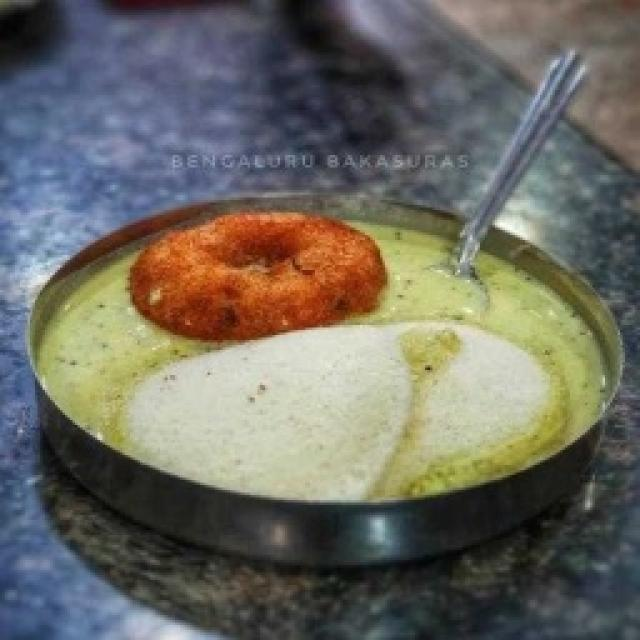idli: (166, 314, 562, 488)
